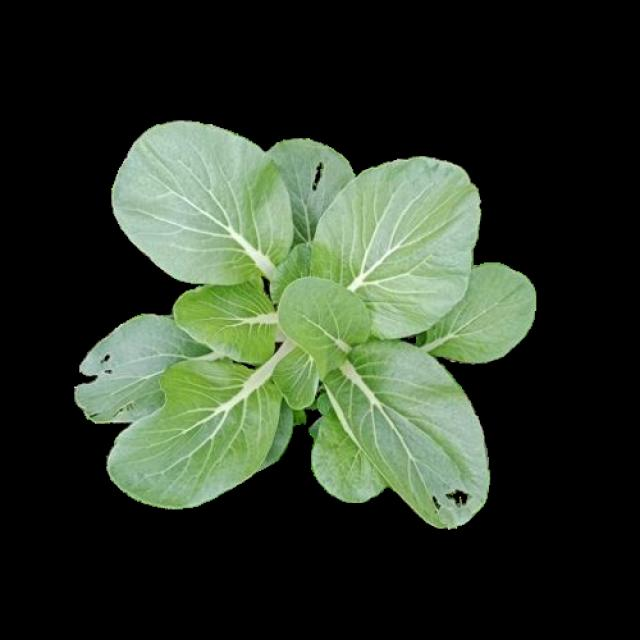mature: (76, 121, 535, 528)
unhealthy: (326, 335, 493, 525), (78, 311, 233, 419), (269, 143, 353, 246)
